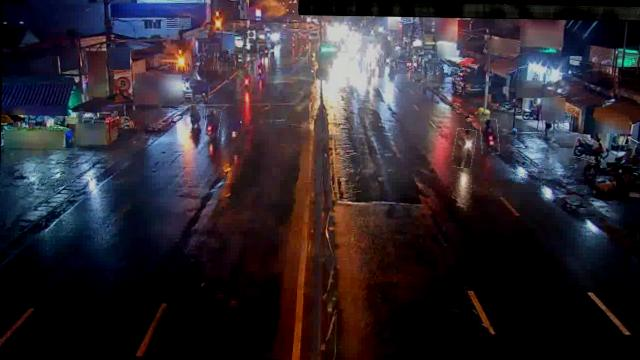Bike: (453, 128, 476, 167), (572, 138, 604, 162), (479, 118, 499, 154), (205, 108, 221, 136), (187, 105, 205, 128), (200, 86, 209, 102)
